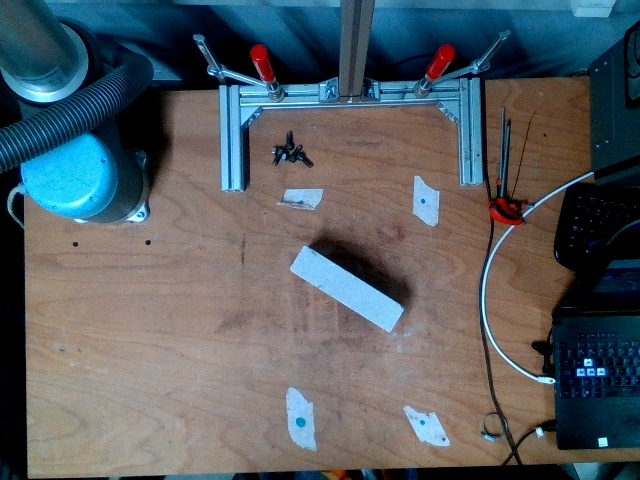brick-side: (288, 245, 403, 334)
